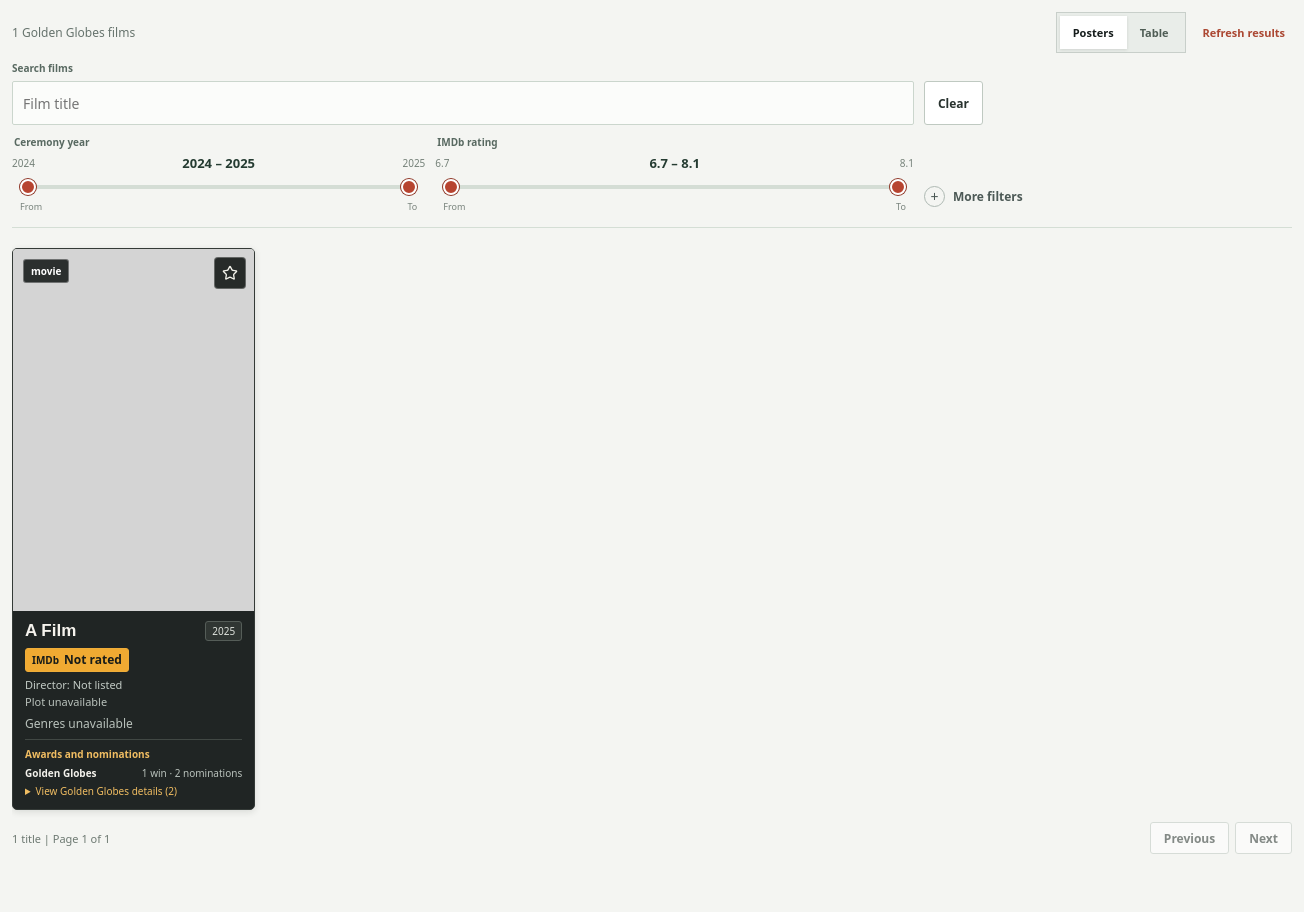
it: GoldenGlobeCatalogView › adds enriched Golden Globes movies to shared favorites by IMDb ID
Click the button named "Add to favorites" at (230, 273), box [214,257,246,289]
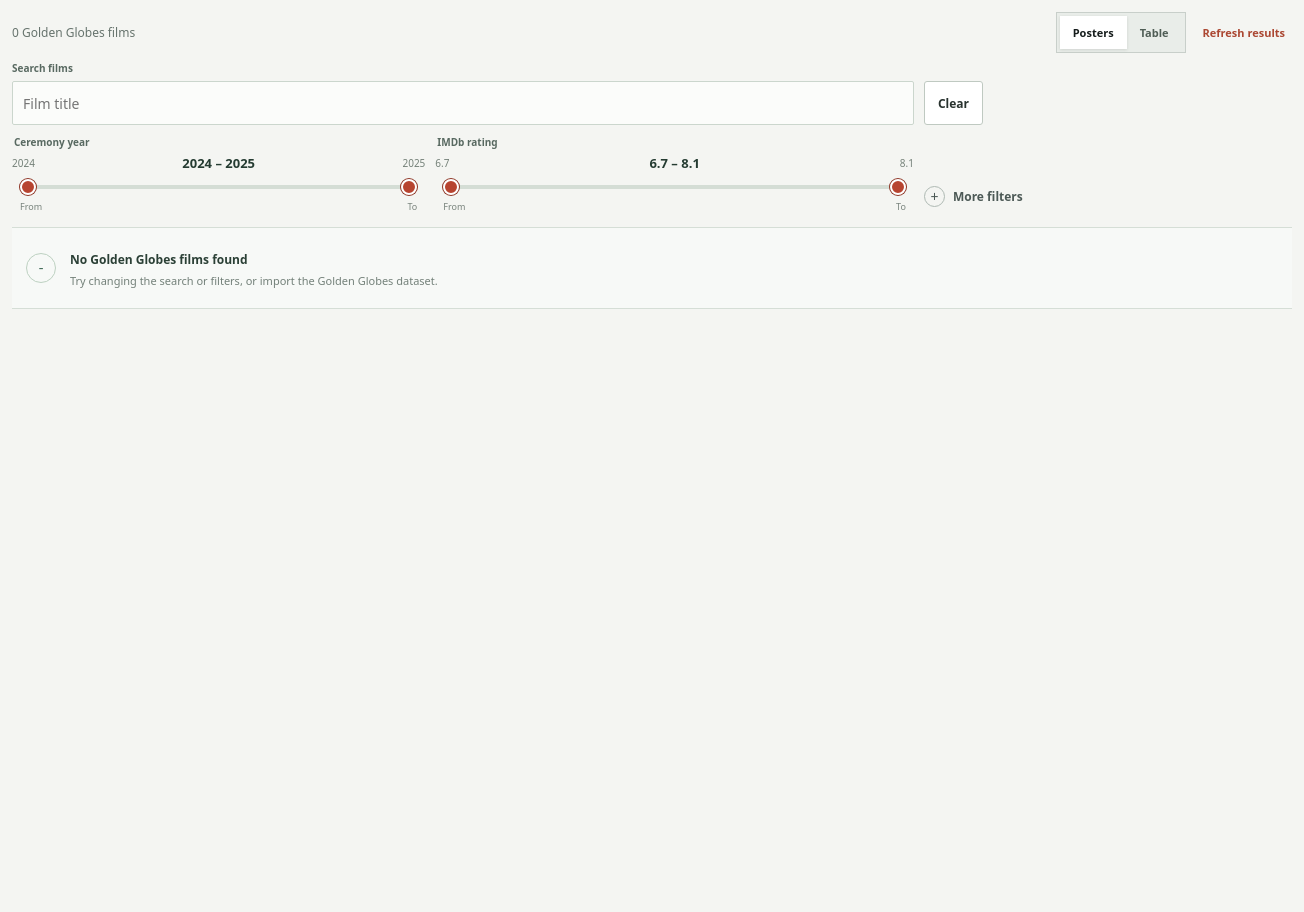
Now the text "No Golden Globes films found" is shown, box [70,251,248,268]
